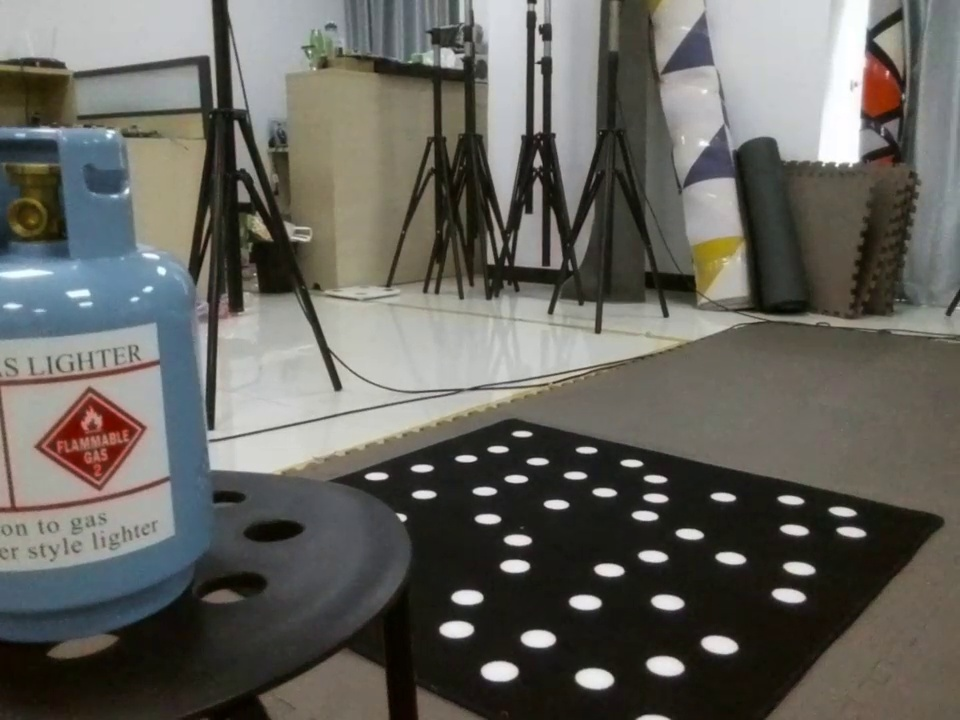gas tank: (1, 138, 244, 646)
